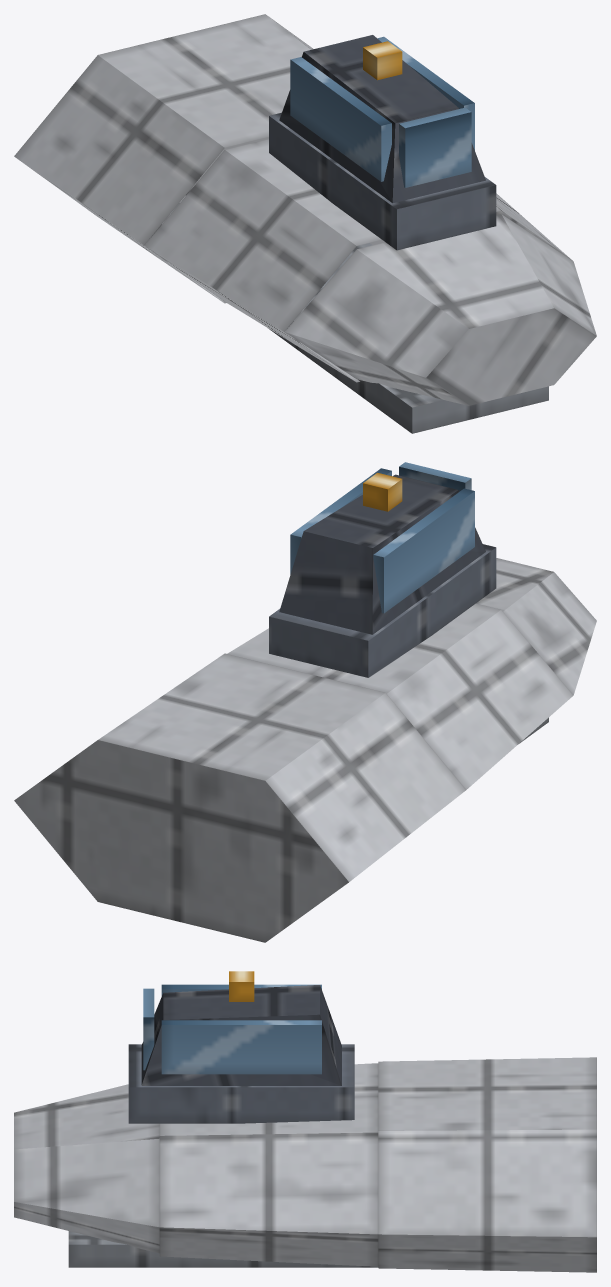
File: ship_freight_cockpit.obj
The picture shows the model from 3 angles, top to bottom: view 1: azimuth 30°, elevation 25°; view 2: azimuth 150°, elevation 25°; view 3: azimuth 270°, elevation 25°; orthographic projection. The views are drawn at different scales.
Parts seen in each view (by area): view 1: hull, glass, plinth, cab, deck, beacon; view 2: hull, cab, plinth, glass, beacon; view 3: hull, glass, plinth, cab, deck, beacon.
Part boxes in pixels (<box>): hull: <box>14,14,596,405</box>; glass: <box>290,36,474,187</box>; plinth: <box>269,112,496,250</box>; cab: <box>279,35,485,203</box>; deck: <box>152,203,548,433</box>; beacon: <box>363,41,402,80</box>; hull: <box>14,558,596,942</box>; cab: <box>279,474,485,634</box>; plinth: <box>269,544,496,677</box>; glass: <box>290,462,474,613</box>; beacon: <box>363,473,402,511</box>; hull: <box>14,1057,596,1272</box>; glass: <box>143,984,321,1074</box>; plinth: <box>128,1044,354,1123</box>; cab: <box>141,985,341,1085</box>; deck: <box>68,1231,378,1267</box>; beacon: <box>229,971,254,1001</box>.
Bounding box in the file's own units: 1.88 × 1.58 × 3.2.
Materials: 6 (6 with a texture image).
